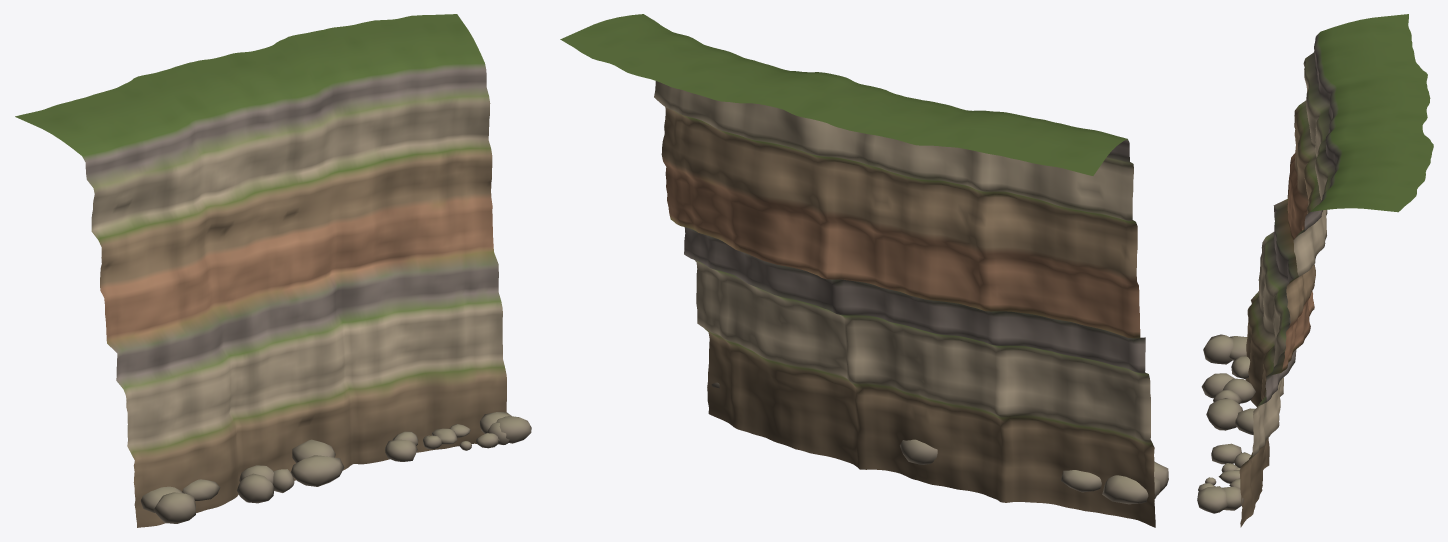
Rendered from valley-cliff_a.glb.
The picture shows the model from 3 angles, left to right: view 1: azimuth 30°, elevation 25°; view 2: azimuth 150°, elevation 25°; view 3: azimuth 270°, elevation 25°; orthographic projection. The views are drawn at different scales.
Visible parts, largest first — view 1: cliff_a_face, cliff_a_rocks; view 2: cliff_a_face, cliff_a_rocks; view 3: cliff_a_face, cliff_a_rocks.
Part boxes in pixels (x1,y1,x2,y2): cliff_a_face: [15, 14, 506, 527]; cliff_a_rocks: [141, 412, 531, 523]; cliff_a_face: [560, 14, 1155, 527]; cliff_a_rocks: [711, 382, 1168, 504]; cliff_a_face: [1239, 14, 1433, 527]; cliff_a_rocks: [1197, 334, 1255, 513].
Size of the model in its own units: 67.43 by 52.6 by 34.02.
